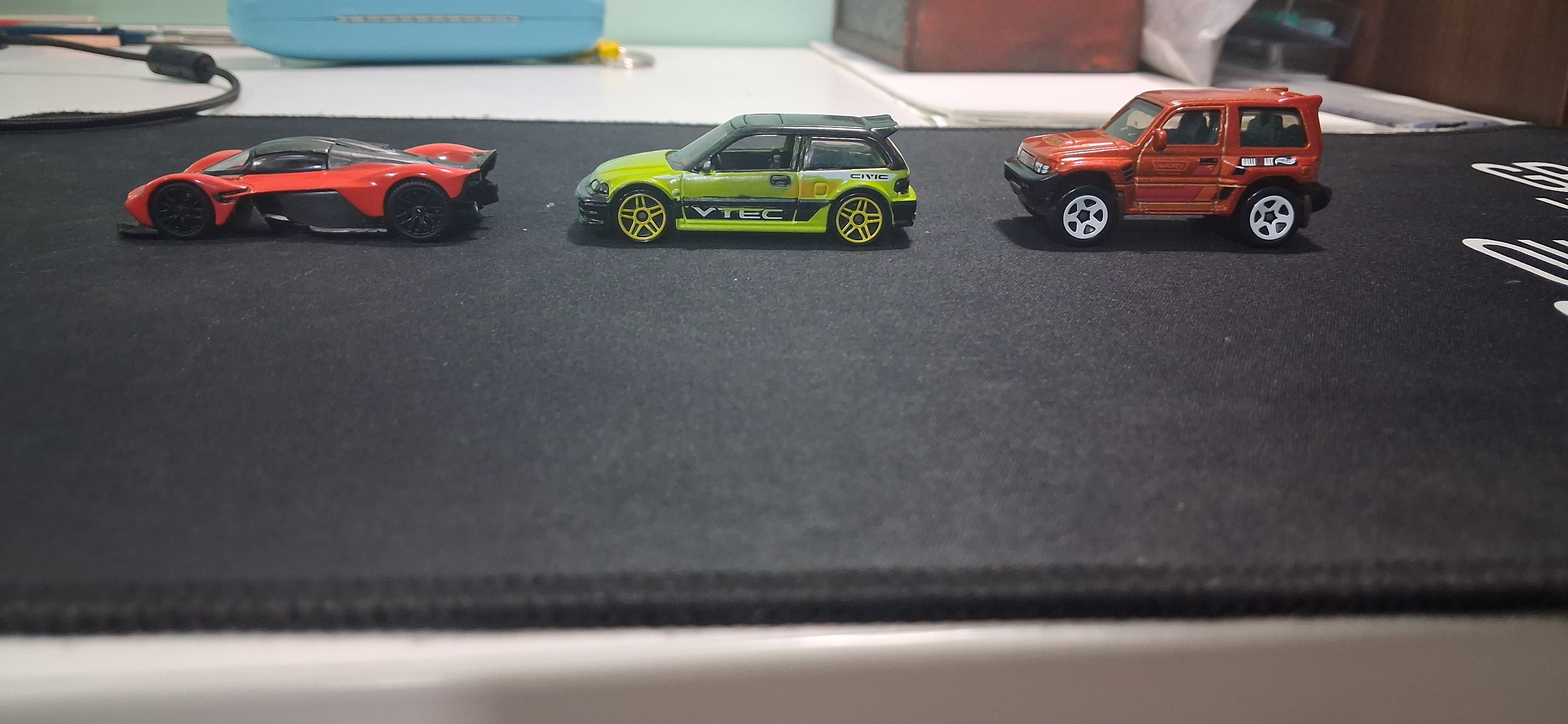Aston_Martin_Valkyrie: (77, 107, 507, 286)
Honda_Civic: (552, 95, 952, 288)
Mitsubishi_Pajero_Evolution: (976, 60, 1409, 305)
